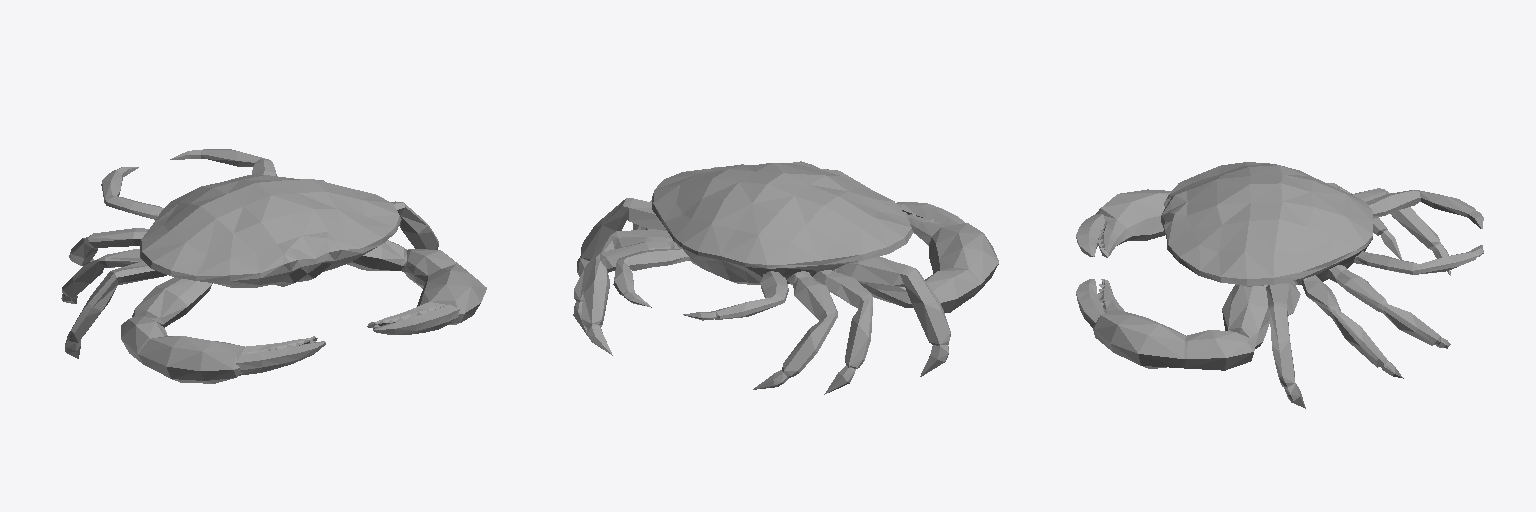
The model's file is Crab.obj.
3 renders of one model, left to right at view 1: azimuth 30°, elevation 25°; view 2: azimuth 150°, elevation 25°; view 3: azimuth 270°, elevation 25°, orthographic.
Bounding box in the file's own units: 0.7968 × 0.297 × 0.7567.